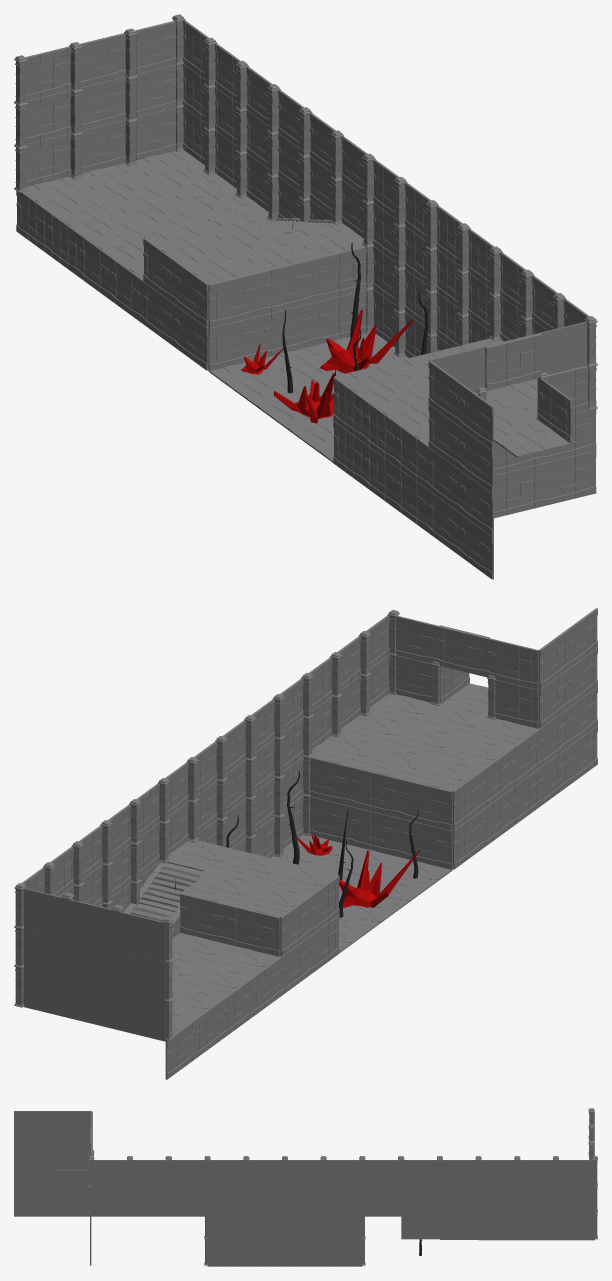
The model's file is Test_Level3.fbx.
3 views of the same model, one above another, from view 1: azimuth 30°, elevation 25°; view 2: azimuth 150°, elevation 25°; view 3: azimuth 270°, elevation 25° (orthographic). The views are drawn at different scales.
Visible parts, largest first — view 1: pCube287; view 2: pCube287; view 3: pCube287.
Boxes of the visible parts, left/top/right/bottom form: pCube287: left=14, top=14, right=597, bottom=579; pCube287: left=14, top=608, right=597, bottom=1079; pCube287: left=14, top=1108, right=597, bottom=1266.
Bounding box in the file's own units: 1245 × 1270 × 6032.
